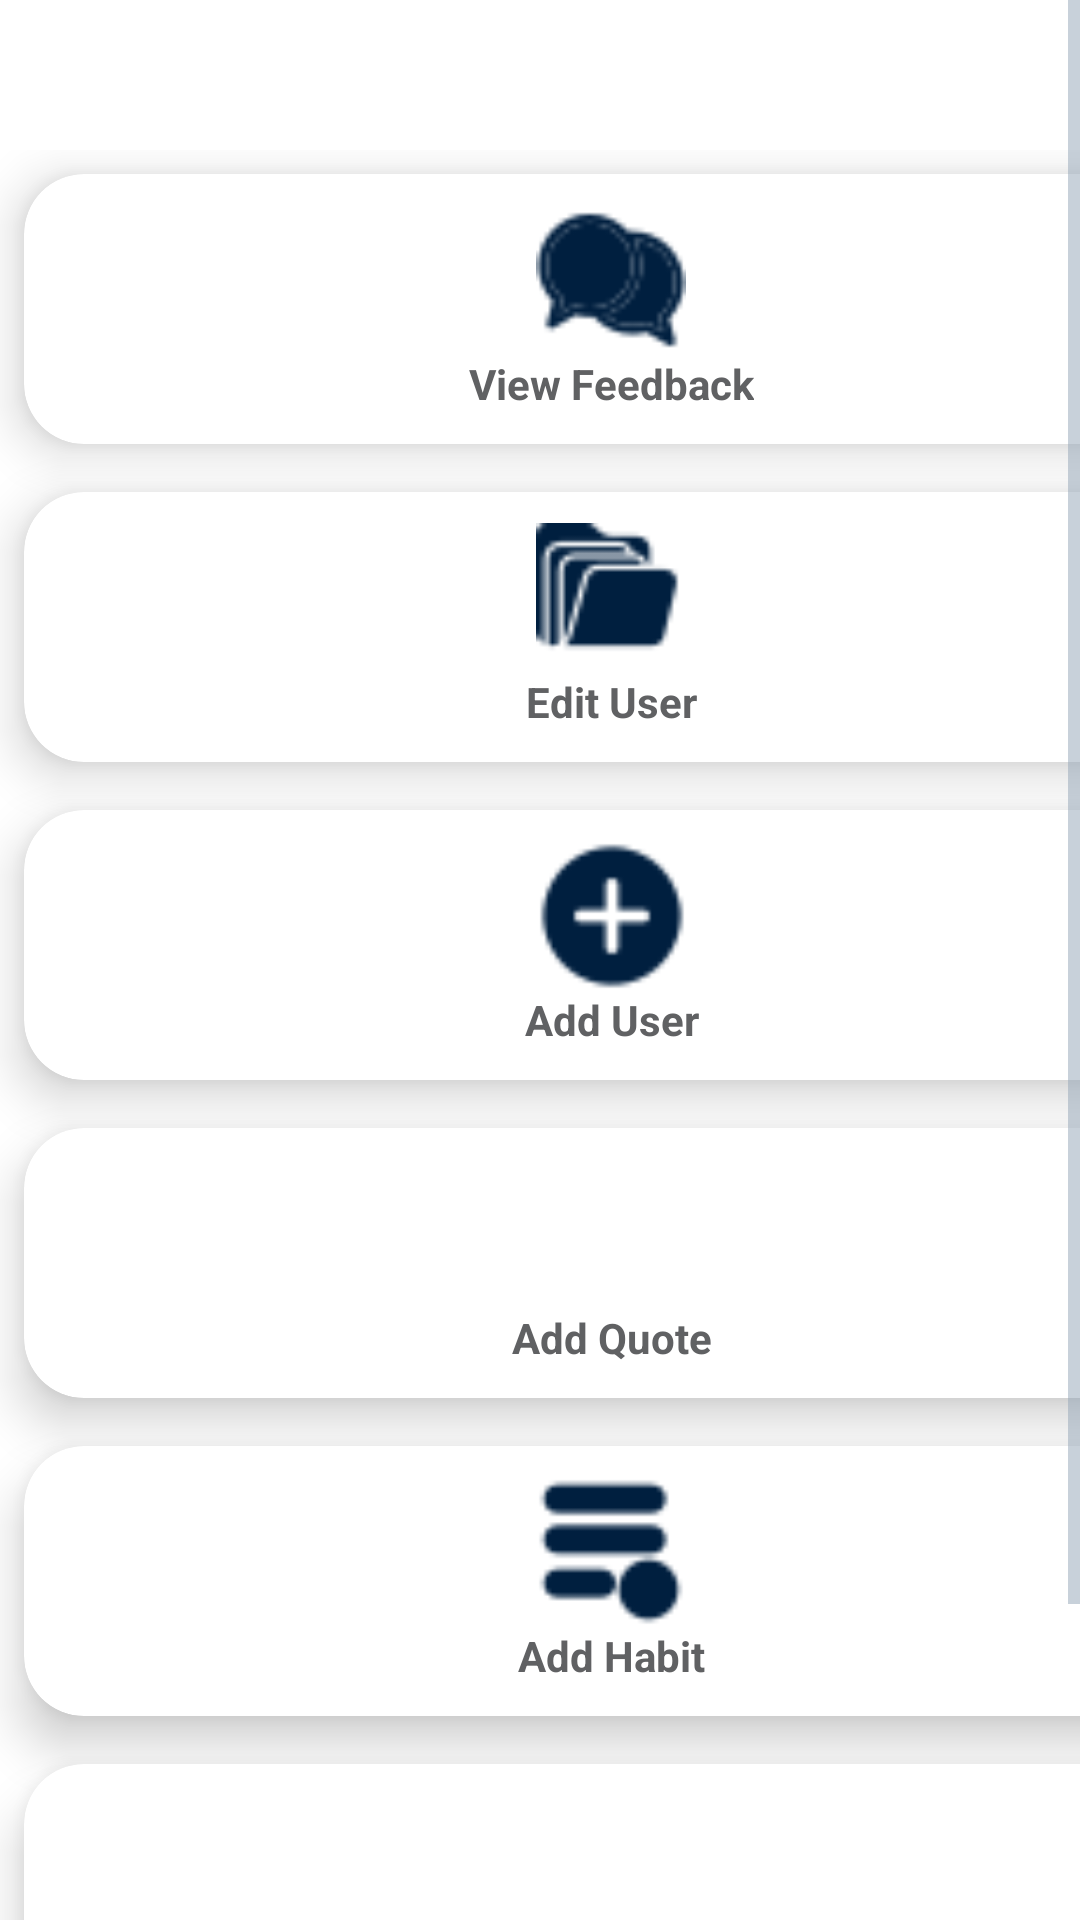

Where icons sit on this 1080px×1920px app screen, as rect(x1, y1, x2, y2):
folder: rect(536, 523, 678, 649)
playlist: rect(540, 1481, 682, 1623)
